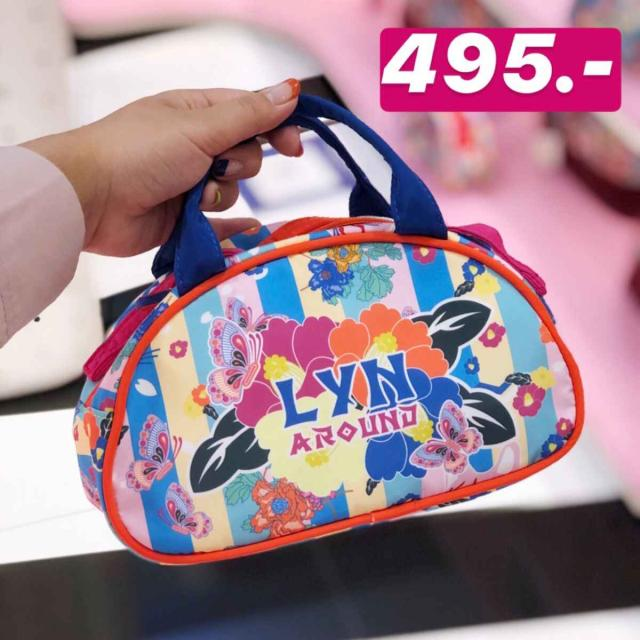handbag: (72, 224, 580, 566)
